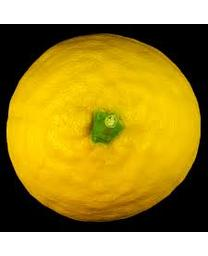lemon: (7, 34, 202, 223)
